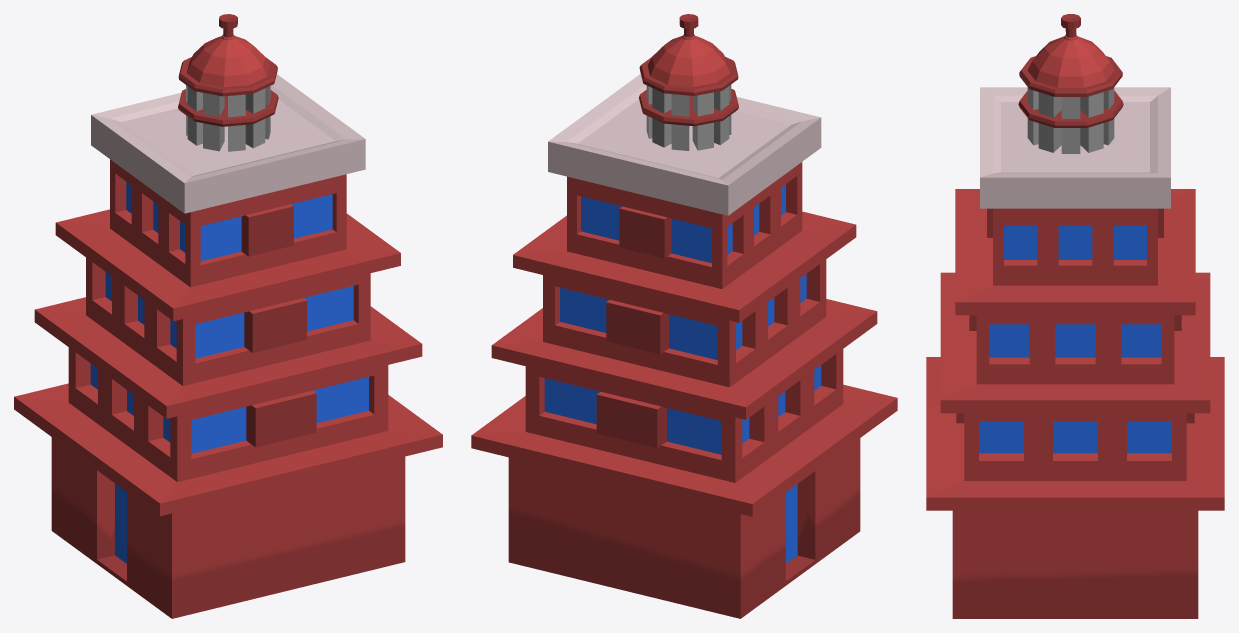
The model's file is house4.fbx.
The picture shows the model from 3 angles, left to right: view 1: azimuth 30°, elevation 25°; view 2: azimuth 150°, elevation 25°; view 3: azimuth 270°, elevation 25°; orthographic projection. The views are drawn at different scales.
Visible parts, largest first — view 1: mid_build .002_LOD0; view 2: mid_build .002_LOD0; view 3: mid_build .002_LOD0.
Boxes of the visible parts, x1,y1,x2,y2 form: mid_build .002_LOD0: (14, 14, 442, 618); mid_build .002_LOD0: (471, 14, 897, 618); mid_build .002_LOD0: (926, 14, 1224, 618).
Size of what is drawn, in the model's own units: 2129 by 3818 by 1904.
